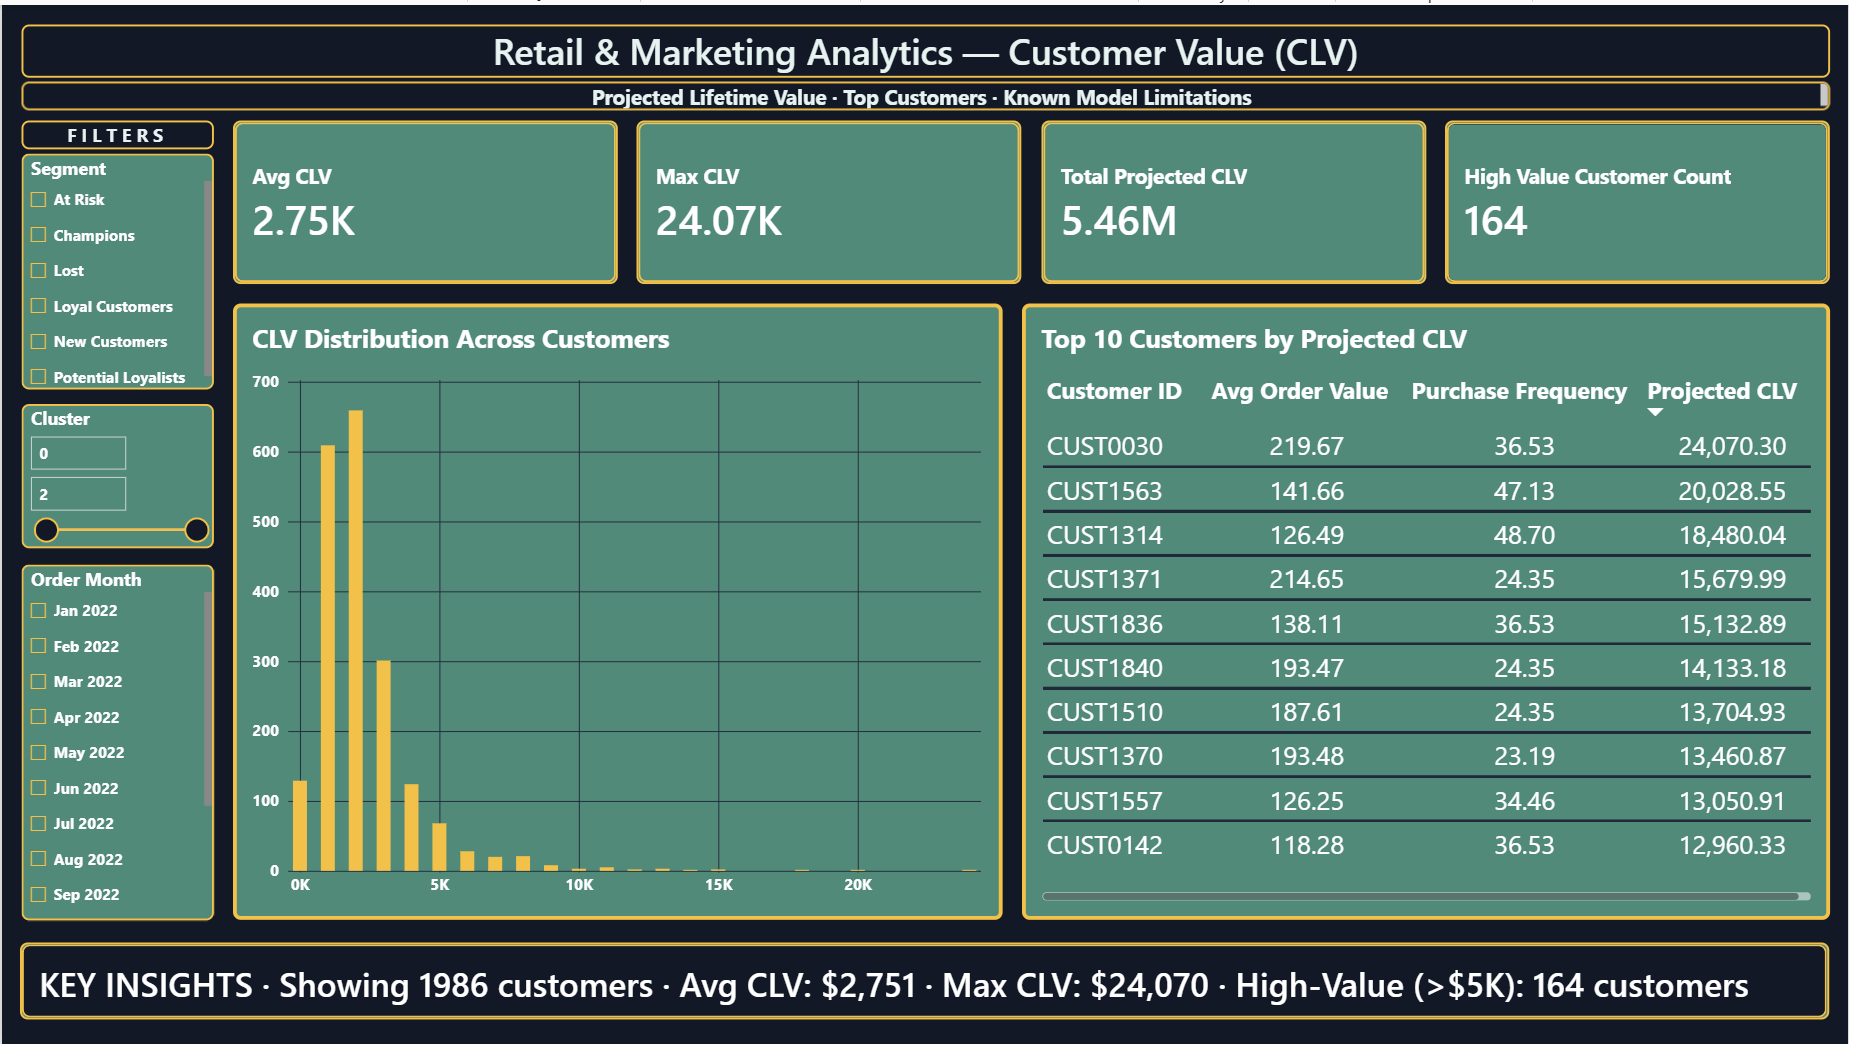

This screenshot's page, from the dashboard's own definition file:
{"tool":"powerbi","page":{"name":"Customer Value","canvas":[1920,1080],"ordinal":4},"visuals":[{"type":"textbox","box":[20,20,1880,55],"z":0},{"type":"textbox","box":[20,80,1880,30],"z":1000},{"type":"cardVisual","fields":{"Data":["customer_clv.Avg CLV"]},"box":[240,120,400,170],"z":2000},{"type":"cardVisual","fields":{"Data":["customer_clv.Max CLV"]},"box":[660,120,400,170],"z":3000},{"type":"cardVisual","fields":{"Data":["customer_clv.Total Projected CLV"]},"box":[1080,120,400,170],"z":4000},{"type":"cardVisual","fields":{"Data":["customer_clv.High Value Customer Count"]},"box":[1500,120,400,170],"z":5000},{"type":"clusteredColumnChart","title":"CLV Distribution Across Customers","fields":{"Category":["customer_clv.CLV_Simple (bins)"],"Y":["CountNonNull(customer_clv.Customer_ID)"]},"box":[240,310.7,800,640.7],"z":6000},{"type":"tableEx","title":"Top 10 Customers by Projected CLV","fields":{"Values":["customer_clv.Customer_ID","Sum(customer_clv.Avg_Order_Value)","Sum(customer_clv.Purchase_Frequency)","Sum(customer_clv.CLV_Simple)"]},"box":[1060,310.7,840,640.7],"z":7000},{"type":"cardVisual","fields":{"Data":["customer_clv.Dynamic CLV Insight"]},"box":[19.2,973.9,1880.5,80.1],"z":8000},{"type":"textbox","box":[20,120,200,30],"z":9000},{"type":"slicer","fields":{"Values":["rfm_analysis.Segment"]},"box":[20,155,200,245],"z":10000},{"type":"slicer","fields":{"Values":["rfm_analysis.Cluster"]},"box":[20,415,200,150],"z":11000},{"type":"slicer","fields":{"Values":["cleaned_retail_sales.Order_Month_Label"]},"box":[20.9,582.3,199.9,370.2],"z":12000}]}

Visuals, with their boxes in screenshot pixels (x1, y1, x2, y2), scaled from the page's 1920x1080 canvas onto the 1849x1044 screenshot:
textbox: 19 19 1830 72
textbox: 19 77 1830 106
cardVisual - customer_clv.Avg CLV: 231 116 616 280
cardVisual - customer_clv.Max CLV: 636 116 1021 280
cardVisual - customer_clv.Total Projected CLV: 1040 116 1425 280
cardVisual - customer_clv.High Value Customer Count: 1445 116 1830 280
"CLV Distribution Across Customers" clusteredColumnChart: 231 300 1002 920
"Top 10 Customers by Projected CLV" tableEx: 1021 300 1830 920
cardVisual - customer_clv.Dynamic CLV Insight: 18 941 1829 1019
textbox: 19 116 212 145
slicer - rfm_analysis.Segment: 19 150 212 387
slicer - rfm_analysis.Cluster: 19 401 212 546
slicer - cleaned_retail_sales.Order_Month_Label: 20 563 213 921
